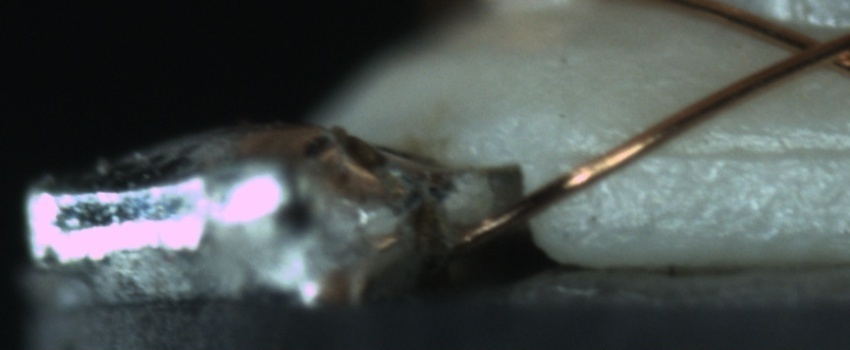CL: (773, 20, 849, 75)
DL: (612, 119, 849, 186)
